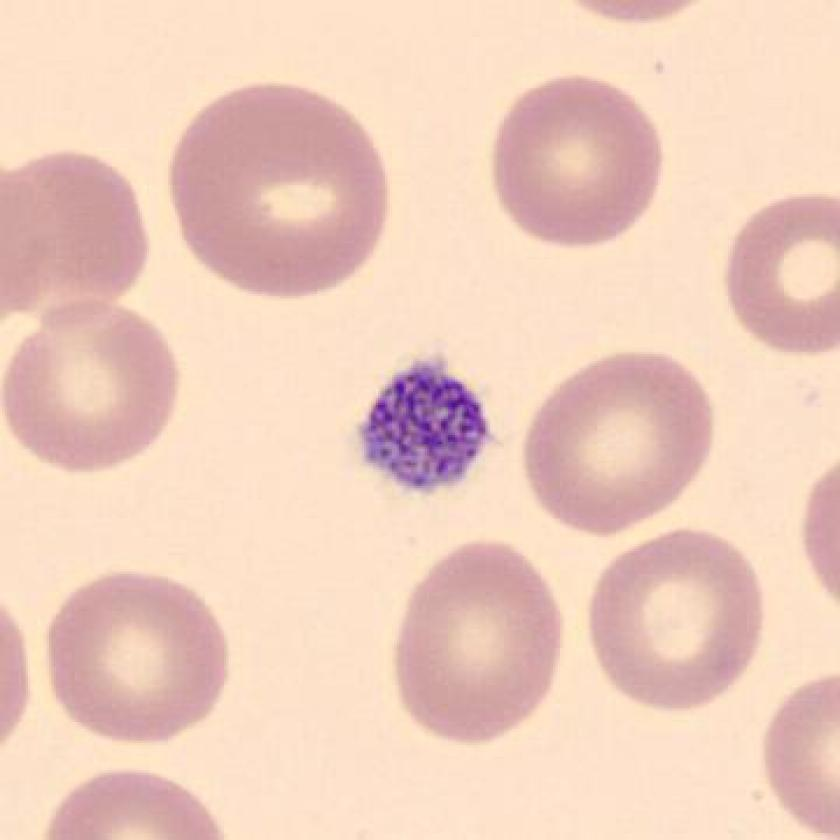platelets: (346, 348, 503, 506)
